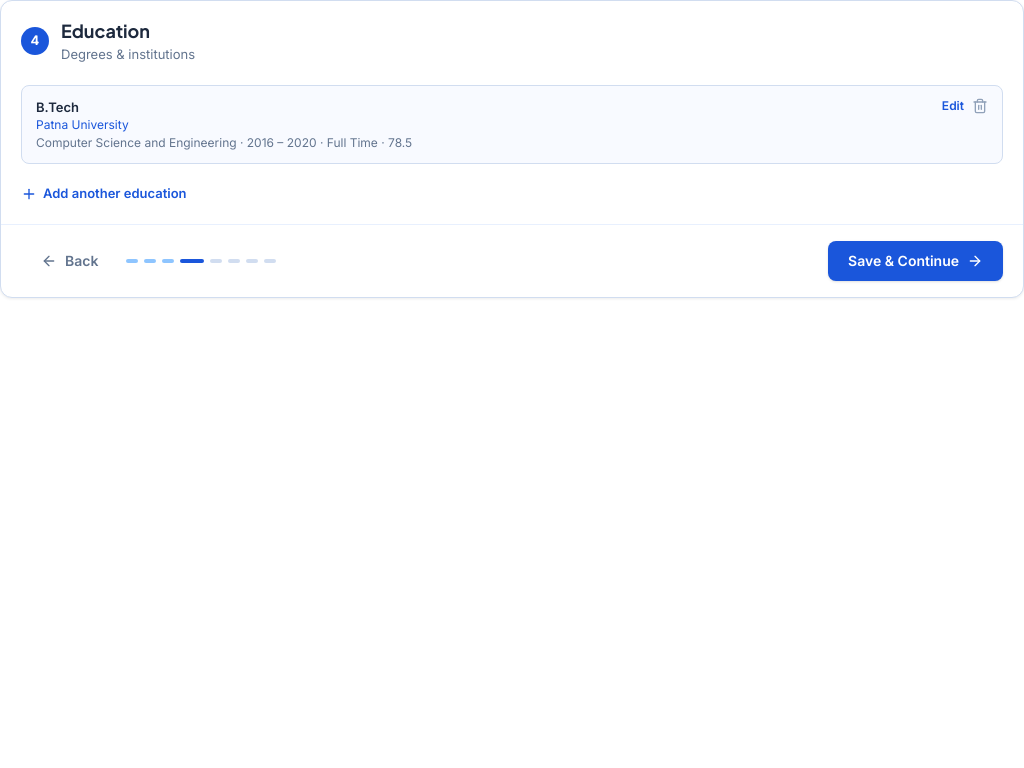
EducationStep › loads a saved qualification back into the form for editing
This screenshot has width=1024, height=768.
What coordinates should you click on to do the following:
click the button "Edit"
I would click on:
 (953, 106)
Its box is [942, 98, 964, 114].
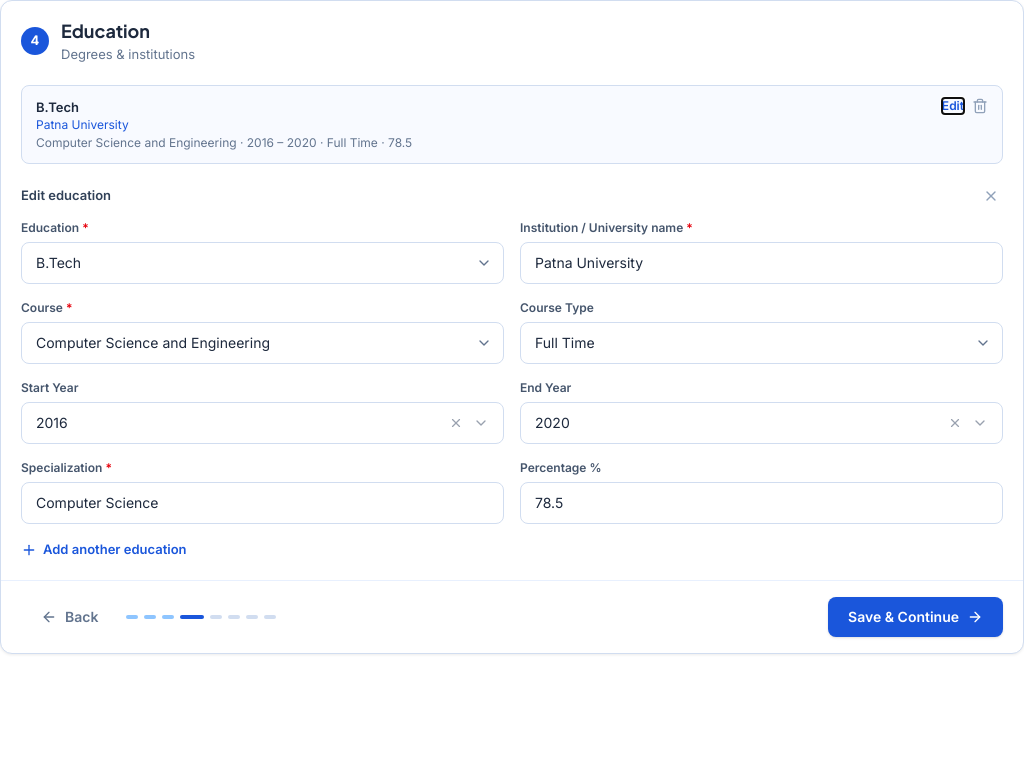
Check: the dropdown labelled "Education *" shows "B.Tech", box [21, 242, 504, 284]
Check: the dropdown labelled "Course *" shows "Computer Science and Engineering", box [21, 322, 504, 364]
Check: the dropdown labelled "Institution / University name *" holds "Patna University", box [520, 242, 1003, 284]
